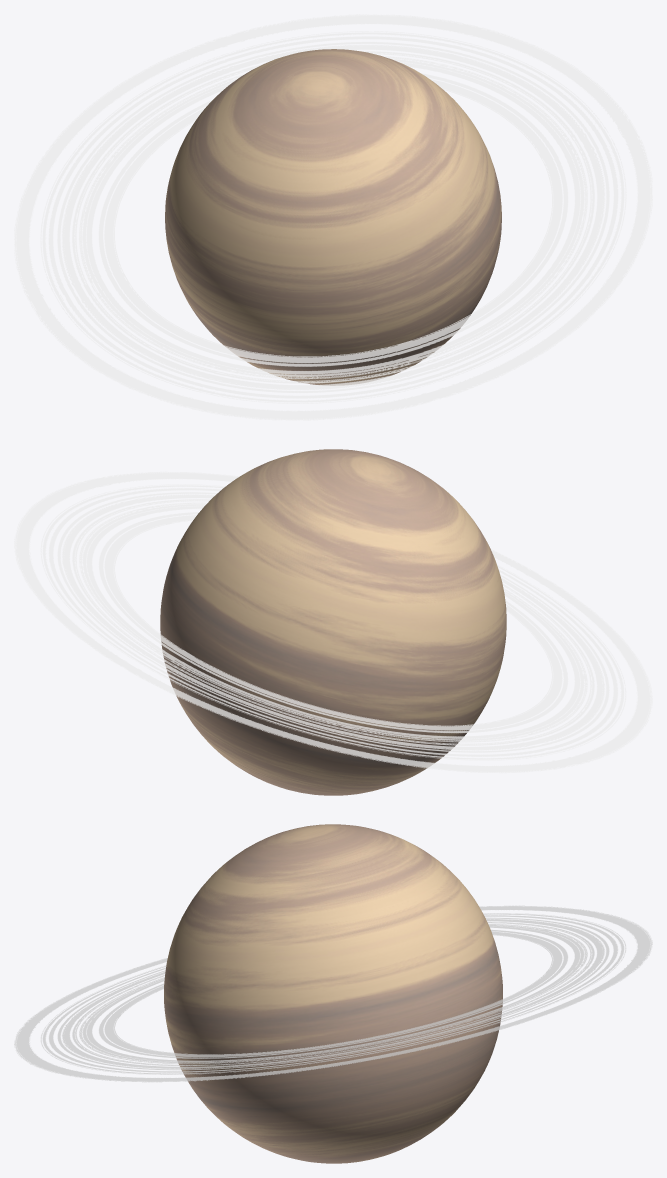
The model's file is saturno.glb.
3 views of the same model, one above another, from view 1: azimuth 30°, elevation 25°; view 2: azimuth 150°, elevation 25°; view 3: azimuth 270°, elevation 25° (orthographic). The views are drawn at different scales.
Parts seen in each view (by area): view 1: Saturno; view 2: Saturno; view 3: Saturno.
Boxes of the visible parts, left/top/right/bottom form: Saturno: left=14, top=14, right=652, bottom=420; Saturno: left=14, top=449, right=652, bottom=795; Saturno: left=14, top=824, right=652, bottom=1163.
Size of the model in its own units: 0.3138 by 0.1684 by 0.3167.
Materials: 2 (2 with a texture image).
